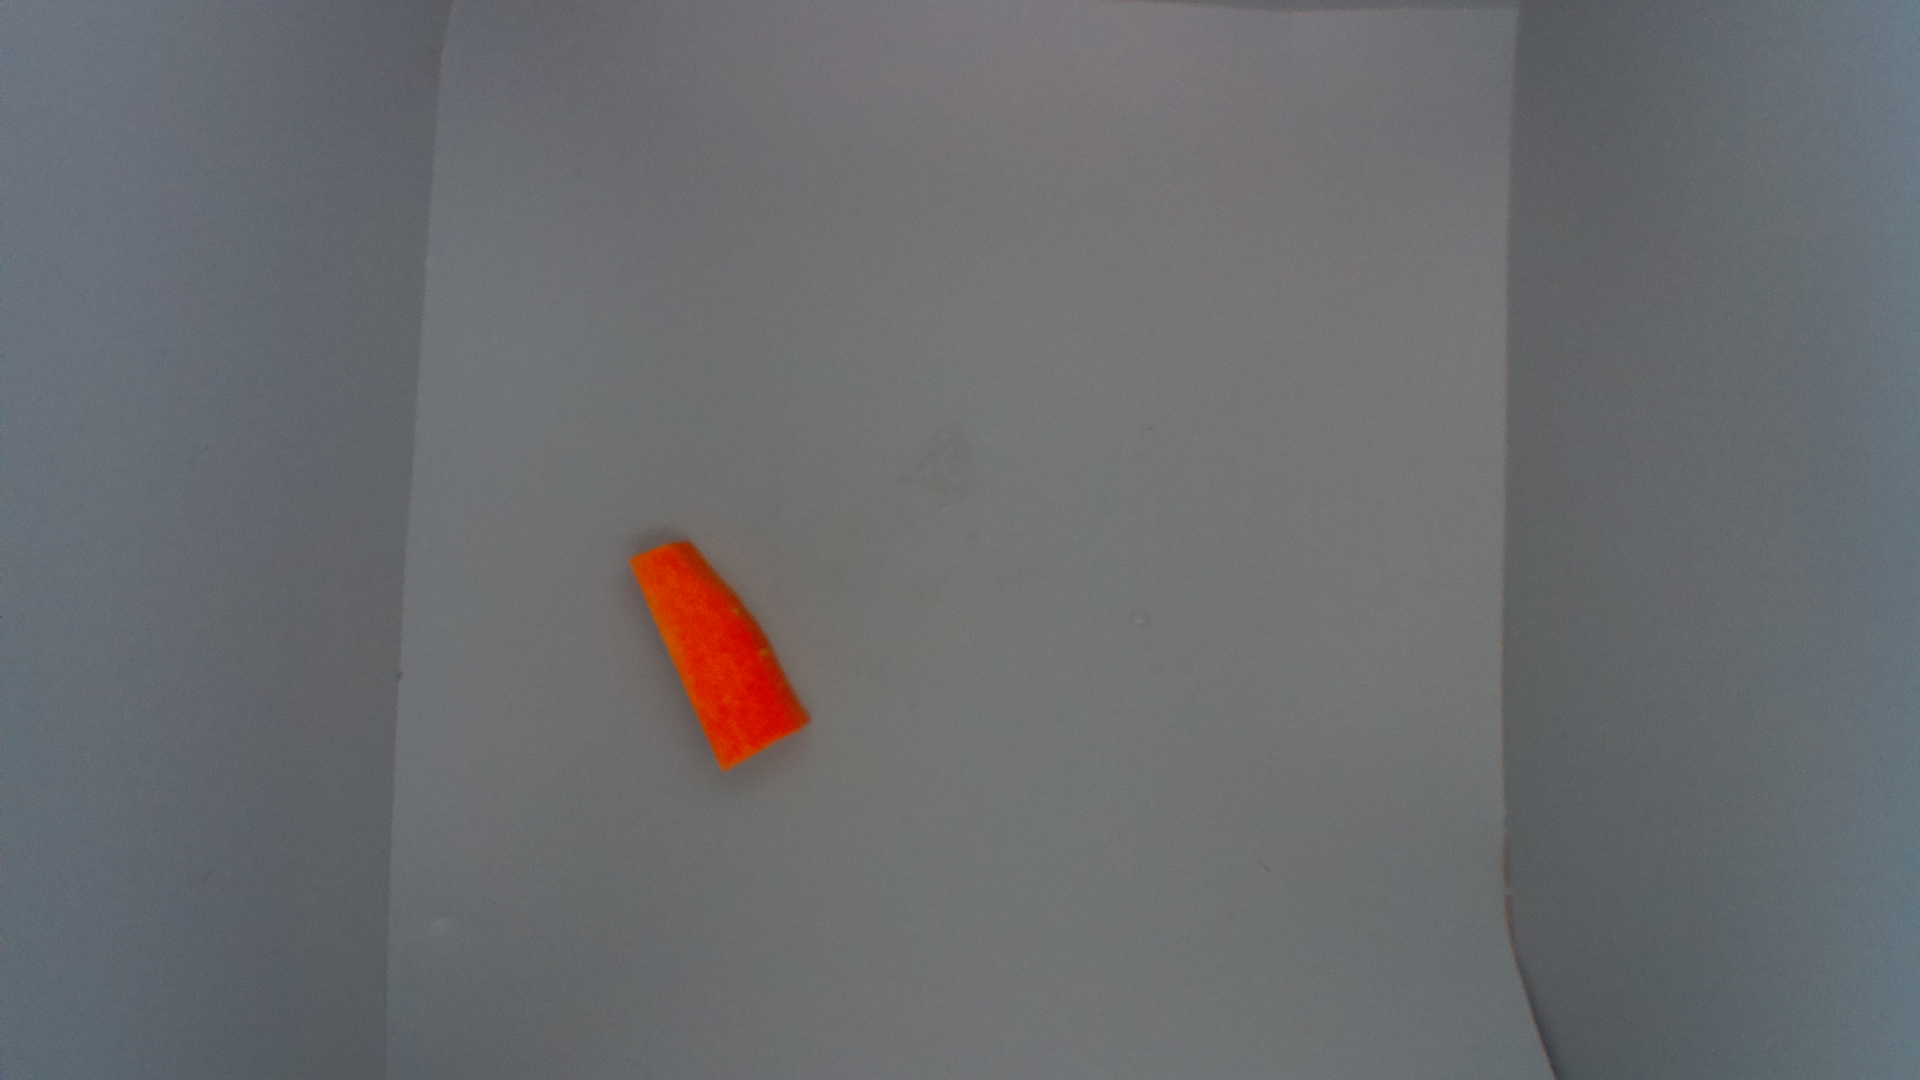carrot: (628, 537, 815, 779)
